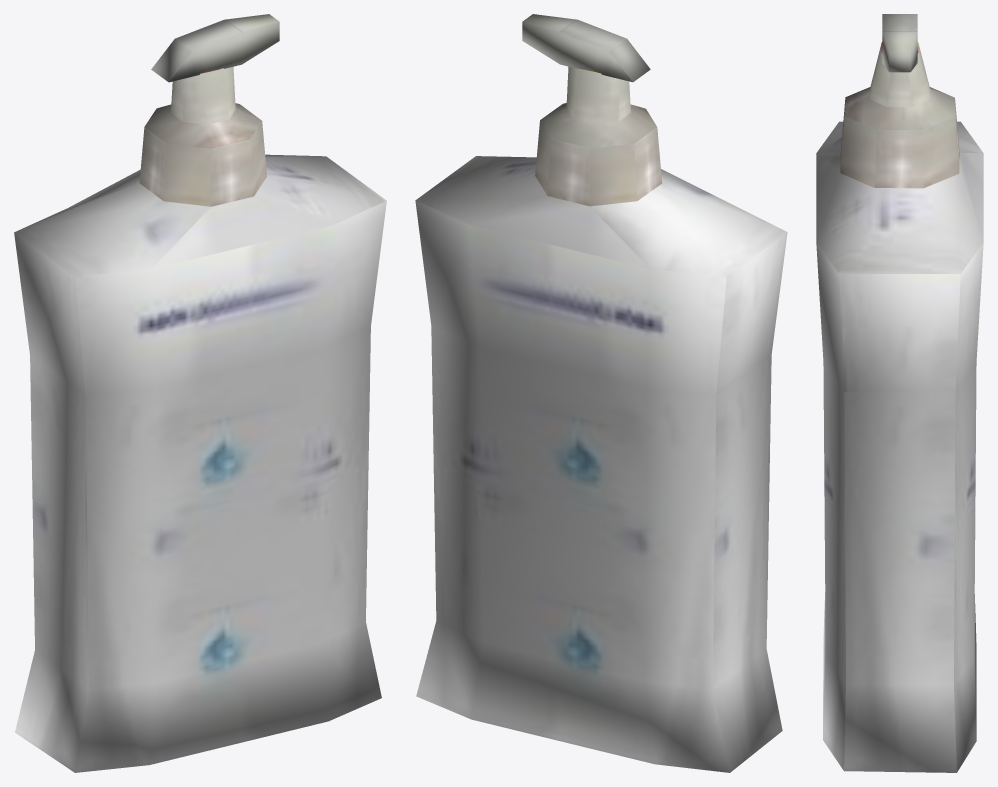
File: Hand_soap_06-col.glb
The picture shows the model from 3 angles, left to right: view 1: azimuth 30°, elevation 25°; view 2: azimuth 150°, elevation 25°; view 3: azimuth 270°, elevation 25°; orthographic projection.
Parts seen in each view (by area): view 1: Hand_soap_06-col; view 2: Hand_soap_06-col; view 3: Hand_soap_06-col.
Part boxes in pixels (bbox=[...]): Hand_soap_06-col: bbox=[14, 14, 386, 772]; Hand_soap_06-col: bbox=[415, 14, 787, 772]; Hand_soap_06-col: bbox=[816, 14, 983, 772].
Bounding box in the file's own units: 0.0856 × 0.1771 × 0.0395.
1 material, 1 textured.
